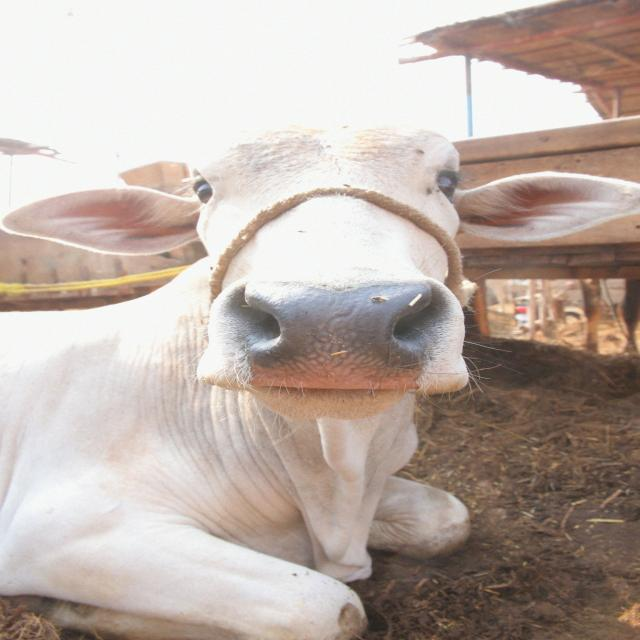muzzles: (211, 269, 463, 402)
